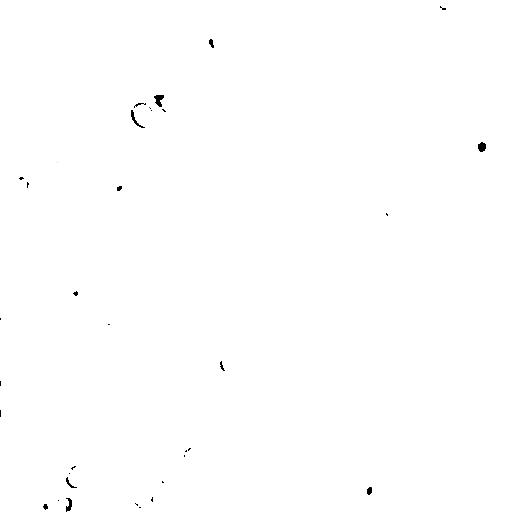micro-algae: (182, 102, 253, 168), (457, 131, 511, 200), (365, 1, 423, 55), (387, 438, 439, 497), (344, 223, 397, 280), (345, 325, 383, 359), (352, 470, 385, 506), (59, 278, 95, 311), (191, 1, 227, 33), (239, 335, 271, 367), (93, 307, 121, 343), (154, 469, 184, 501), (236, 293, 268, 323), (467, 130, 494, 163), (105, 171, 138, 197), (339, 59, 372, 85), (131, 97, 155, 128), (48, 439, 73, 468), (63, 463, 89, 489), (380, 201, 406, 227), (374, 425, 398, 453), (25, 0, 63, 17), (287, 309, 315, 332), (218, 348, 241, 375), (149, 419, 171, 447), (189, 35, 211, 62), (430, 0, 460, 19), (161, 46, 184, 69), (183, 445, 207, 467), (0, 380, 15, 413), (133, 489, 155, 510), (39, 157, 61, 178), (197, 423, 217, 445), (291, 283, 312, 303), (267, 443, 286, 465), (158, 91, 177, 112), (131, 300, 148, 323), (52, 495, 73, 511), (155, 1, 181, 13), (30, 497, 49, 512), (45, 15, 62, 31), (19, 171, 31, 193), (155, 475, 172, 489), (463, 0, 487, 7)
